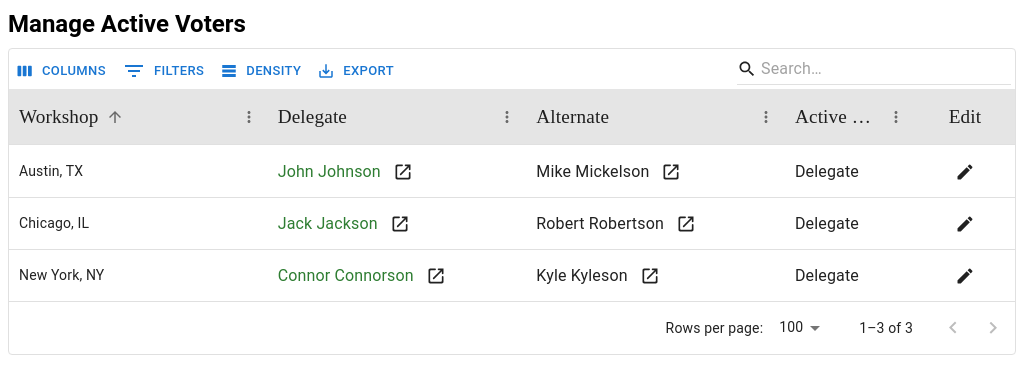
Scenario: Successfully alerts when they try editing active voter while voting
This screenshot has width=1024, height=372.
Click the menu item with test id "edit-active-voter-1" at (965, 172), box [950,156,980,186]
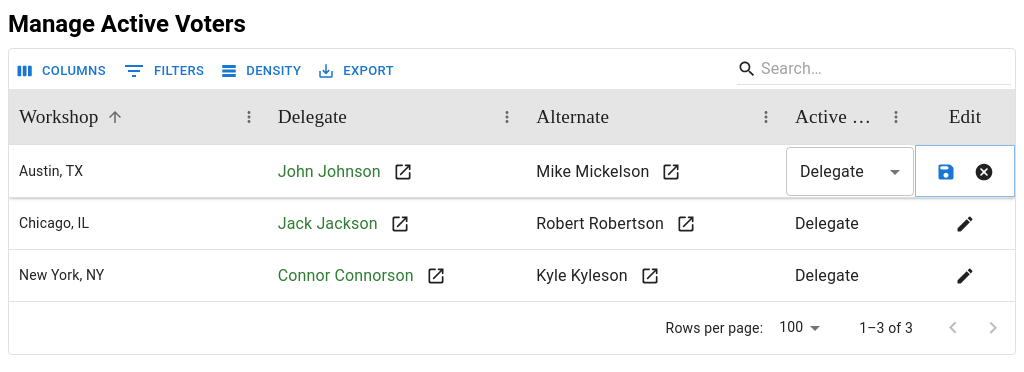
Click the menu item with test id "save-active-voter-1" at (946, 172), box [931,156,961,186]
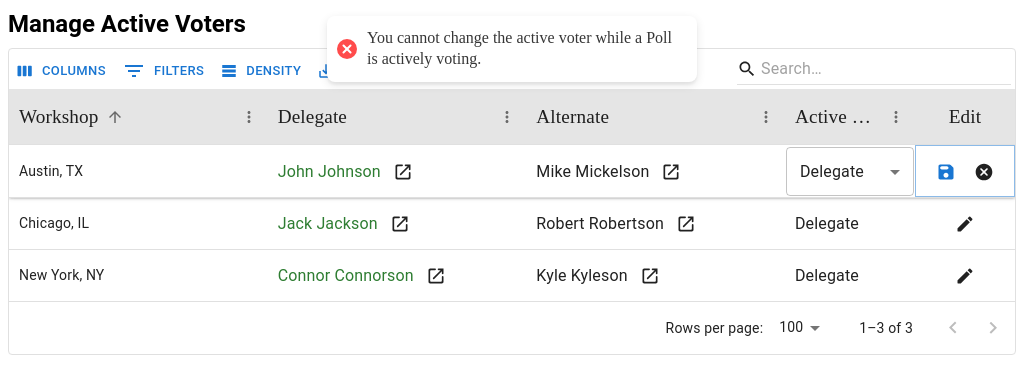
Check: the text "You cannot change the active voter while a Poll is actively voting." is shown, box [367,28,677,70]
